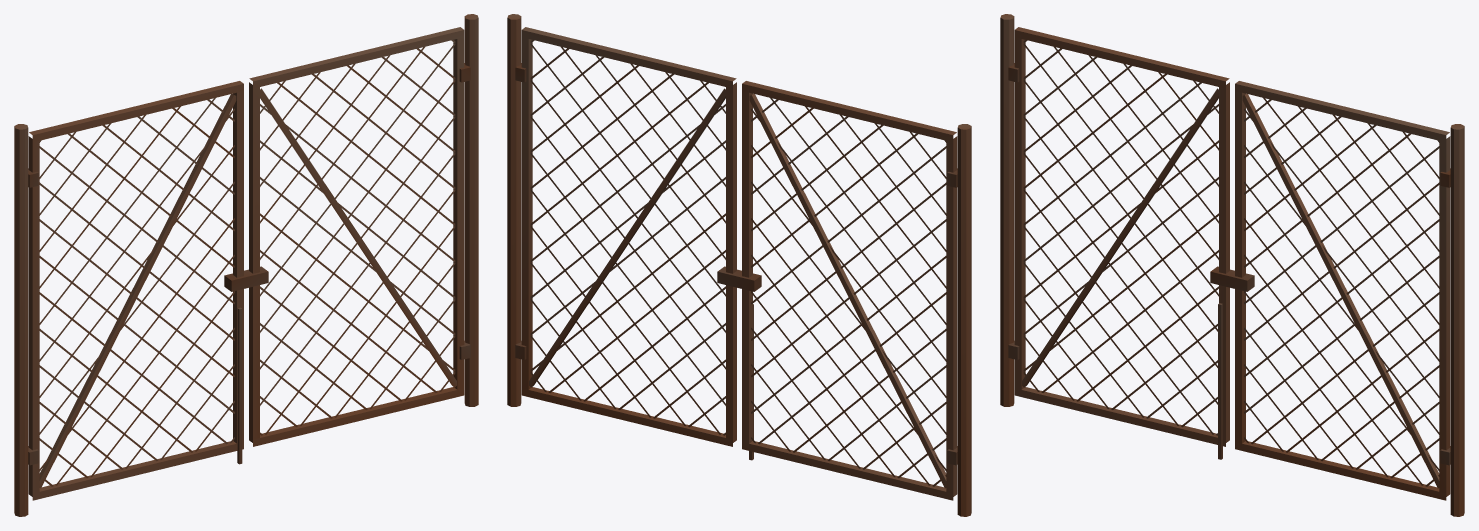
Rendered from fence.chainlink_gate.rusty.glb.
3 views of the same model, side by side, from view 1: azimuth 30°, elevation 25°; view 2: azimuth 150°, elevation 25°; view 3: azimuth 330°, elevation 25° (orthographic).
Parts seen in each view (by area): view 1: fence_chainlink_gate_rusty; view 2: fence_chainlink_gate_rusty; view 3: fence_chainlink_gate_rusty.
Part boxes in pixels (left/top/right/bottom): fence_chainlink_gate_rusty: left=14, top=14, right=478, bottom=516; fence_chainlink_gate_rusty: left=507, top=14, right=971, bottom=516; fence_chainlink_gate_rusty: left=1000, top=14, right=1464, bottom=516.
Size of what is drawn, in the model's own units: 3 by 2.4 by 0.08.
